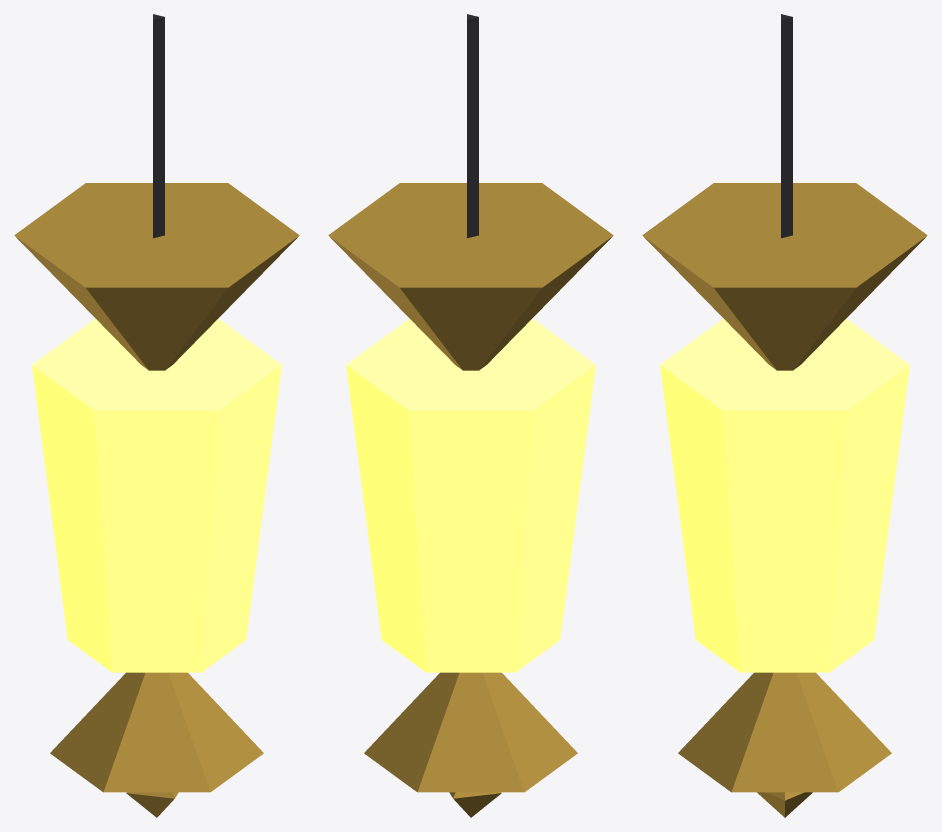
File: lantern_brass_sbs.glb
The picture shows the model from 3 angles, left to right: view 1: azimuth 30°, elevation 25°; view 2: azimuth 150°, elevation 25°; view 3: azimuth 270°, elevation 25°; orthographic projection.
Visible parts, largest first — view 1: lantern_brass_sbs; view 2: lantern_brass_sbs; view 3: lantern_brass_sbs.
Boxes of the visible parts, bbox=[...] form: lantern_brass_sbs: bbox=[14, 14, 299, 817]; lantern_brass_sbs: bbox=[328, 14, 613, 817]; lantern_brass_sbs: bbox=[642, 14, 927, 817].
Bounding box in the file's own units: 0.3048 × 1.09 × 0.352.
